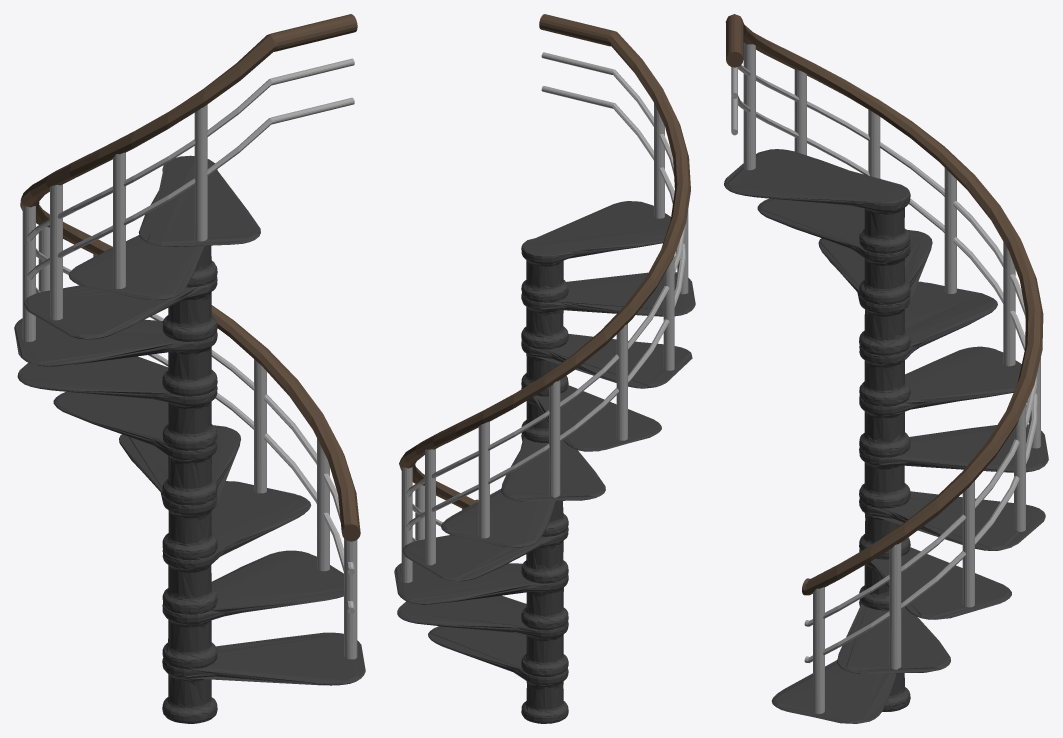
File: spiralStaircase.obj
The picture shows the model from 3 angles, left to right: view 1: azimuth 30°, elevation 25°; view 2: azimuth 150°, elevation 25°; view 3: azimuth 270°, elevation 25°; orthographic projection. The views are drawn at different scales.
Visible parts, largest first — view 1: stairs_Cylinder, handrail_Circle, baluster, top_cap_Circle.002; view 2: stairs_Cylinder, handrail_Circle, baluster, top_cap_Circle.002; view 3: stairs_Cylinder, handrail_Circle, baluster, top_cap_Circle.002.
Boxes of the visible parts, box(x1,y1,x2,y2) form: stairs_Cylinder: box(14, 104, 365, 723); handrail_Circle: box(20, 35, 360, 530); baluster: box(26, 79, 354, 608); top_cap_Circle.002: box(268, 14, 357, 124); stairs_Cylinder: box(394, 103, 695, 723); handrail_Circle: box(399, 31, 690, 509); baluster: box(405, 69, 685, 541); top_cap_Circle.002: box(539, 14, 616, 108); stairs_Cylinder: box(724, 43, 1048, 723); handrail_Circle: box(743, 22, 1043, 595); baluster: box(738, 65, 1037, 662); top_cap_Circle.002: box(725, 14, 743, 135).
Bounding box in the file's own units: 154 × 356 × 152.
